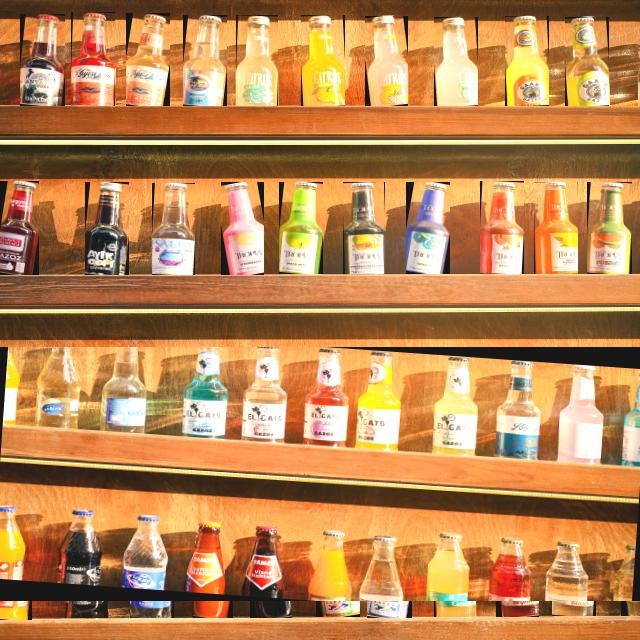Bottle: (555, 347, 599, 445), (97, 351, 142, 446), (353, 348, 396, 446), (492, 348, 535, 445), (239, 349, 282, 446), (179, 349, 222, 446), (430, 348, 473, 445), (301, 349, 343, 445), (534, 182, 578, 273), (86, 182, 129, 275), (21, 15, 65, 105), (152, 183, 195, 275), (72, 13, 115, 105), (280, 182, 323, 274), (553, 525, 596, 616), (481, 182, 524, 273), (127, 14, 170, 105), (222, 182, 264, 275), (506, 16, 549, 106), (130, 528, 173, 618), (588, 183, 631, 273), (302, 16, 345, 106), (365, 16, 408, 106), (66, 526, 108, 618), (434, 524, 476, 616), (566, 17, 609, 106), (407, 183, 449, 274), (236, 15, 278, 106), (184, 15, 226, 105), (344, 182, 385, 274), (435, 17, 477, 106), (497, 525, 538, 616), (32, 360, 75, 446), (368, 532, 411, 617), (317, 530, 359, 617), (251, 530, 292, 617), (0, 181, 38, 274), (194, 530, 233, 617), (0, 528, 31, 619), (620, 347, 639, 444), (621, 523, 639, 615), (0, 360, 14, 447)
